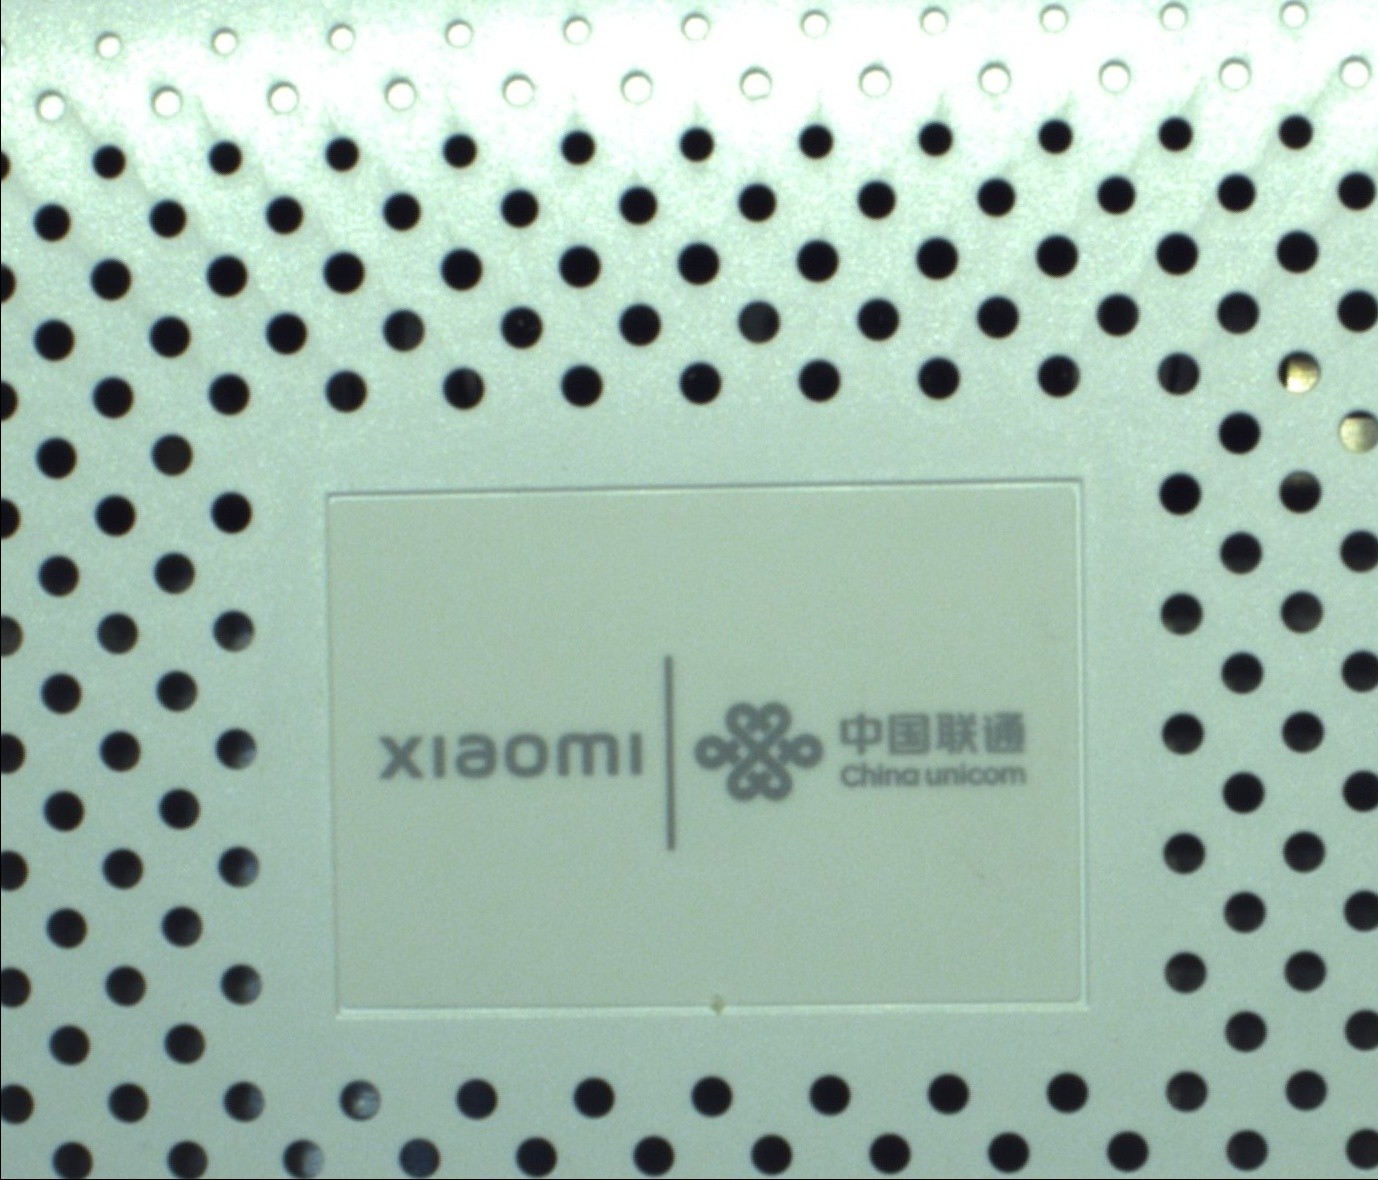MAC_NewUnicom: (366, 646, 1034, 855)
